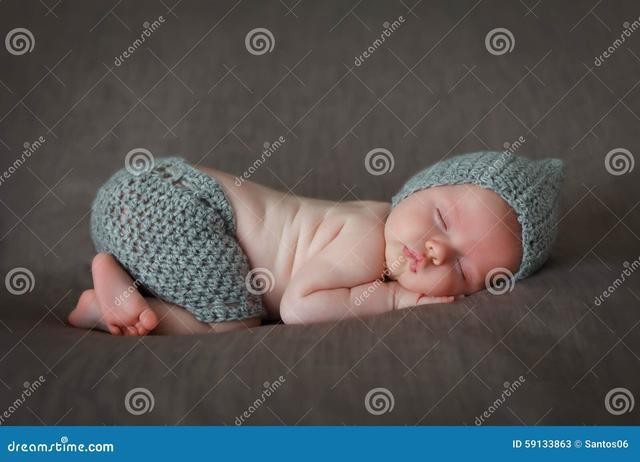sleep: (383, 182, 521, 298)
